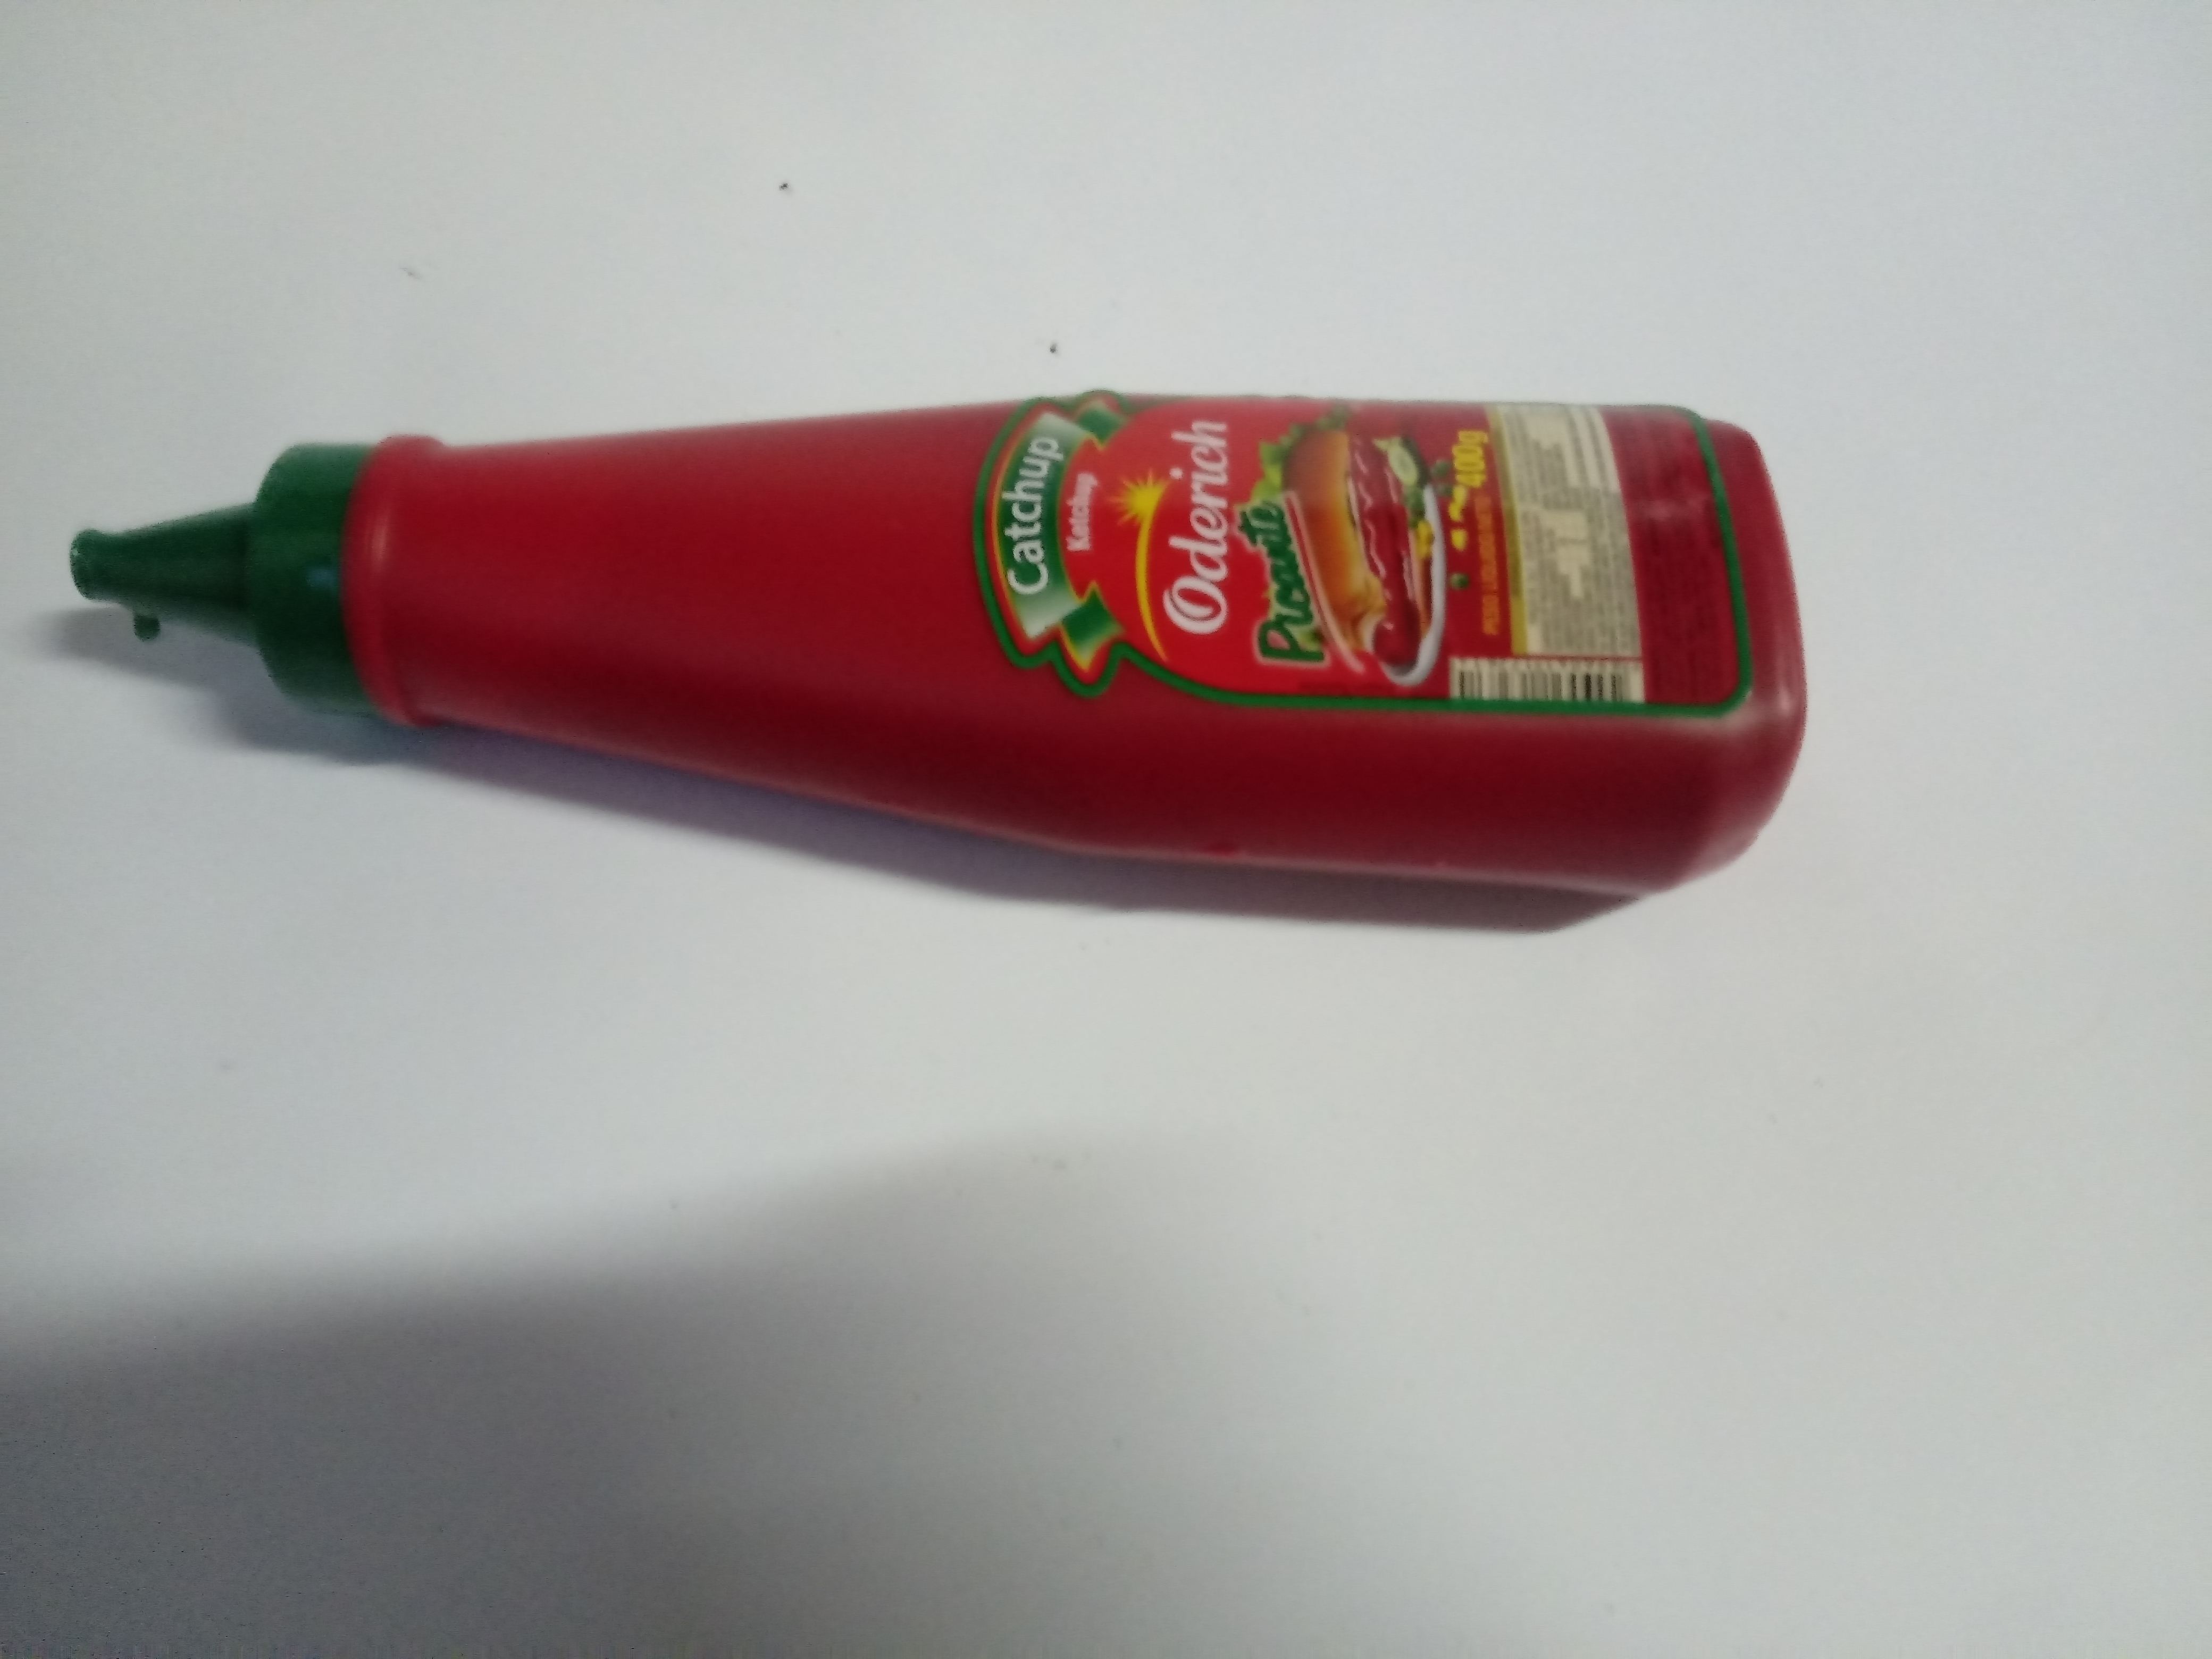catchup-oderich: (47, 347, 1836, 915)
